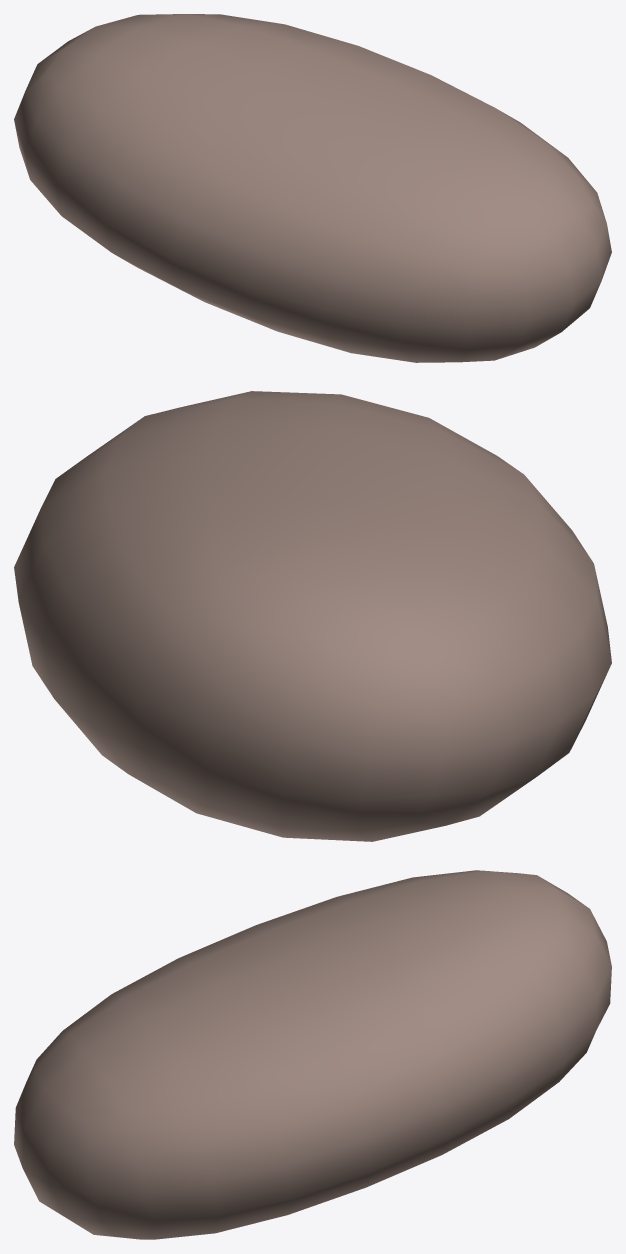
The model's file is Piedra2C.fbx.
3 views of the same model, one above another, from view 1: azimuth 30°, elevation 25°; view 2: azimuth 150°, elevation 25°; view 3: azimuth 270°, elevation 25° (orthographic). The views are drawn at different scales.
Visible parts, largest first — view 1: Circle.011; view 2: Circle.011; view 3: Circle.011.
Part boxes in pixels (x1=…): Circle.011: x1=14, y1=14, x2=611, y2=362; Circle.011: x1=14, y1=391, x2=611, y2=841; Circle.011: x1=14, y1=870, x2=611, y2=1239.
Size of the model in its own units: 162 by 84.14 by 187.
